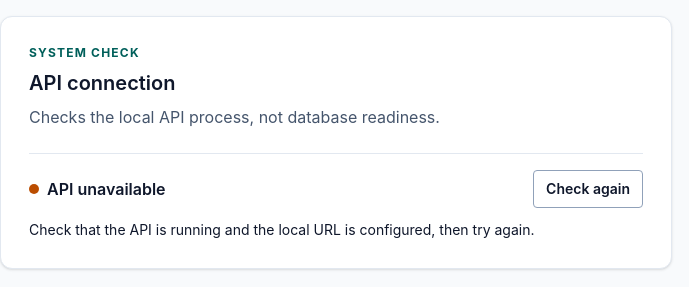
Test: shows unavailable after incorrect contract and recovers on retry
Expected: the text "API unavailable" is shown, left=29, top=177, right=166, bottom=201
Click the button "Check again" at (588,189), box left=533, top=170, right=643, bottom=208
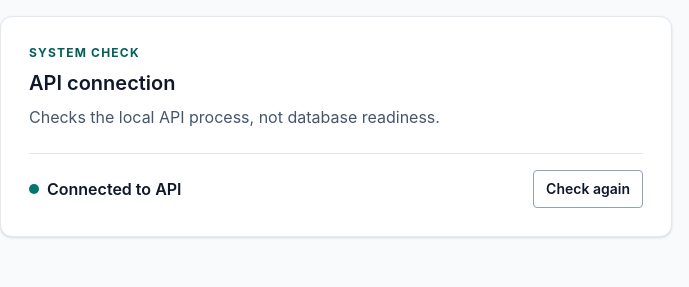
Expected: the text "Connected to API" is shown, left=29, top=177, right=182, bottom=201
